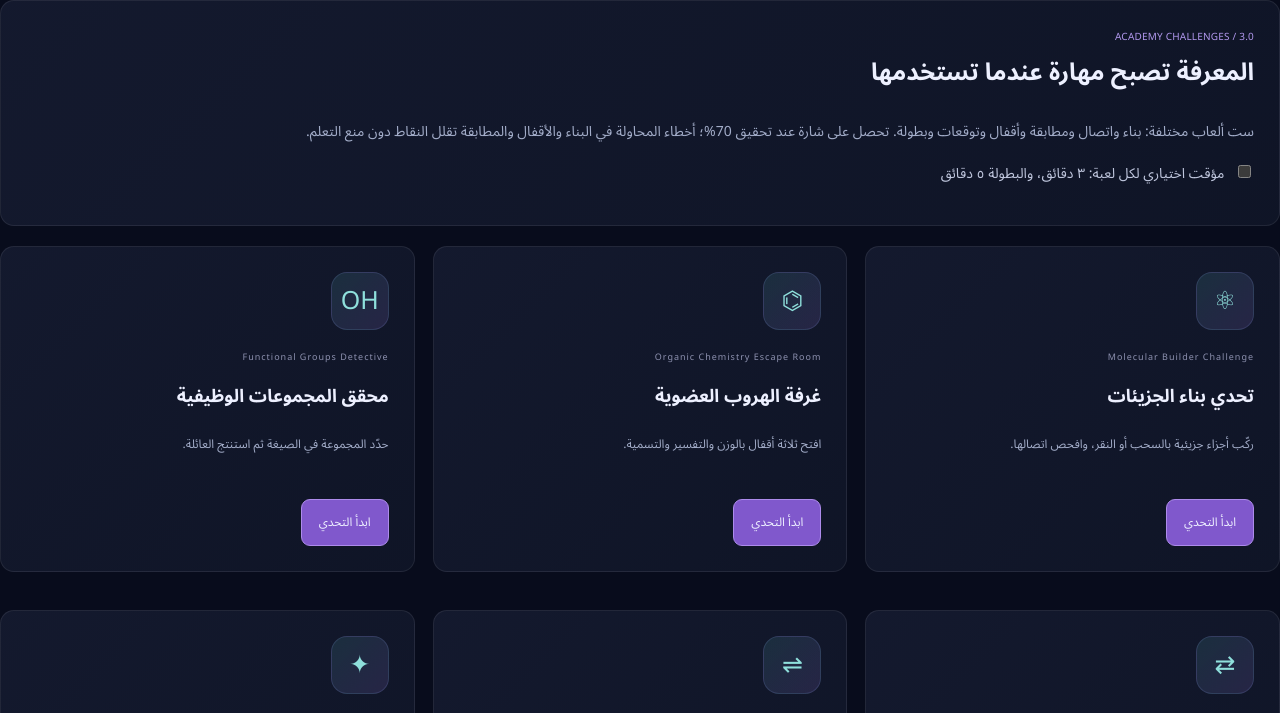
Scenario: requires identifying the actual functional region before family classification
Click the button "ابدأ التحدي" below "محقق المجموعات الوظيفية" at coordinates (345, 523), box 301,499 -> 389,546
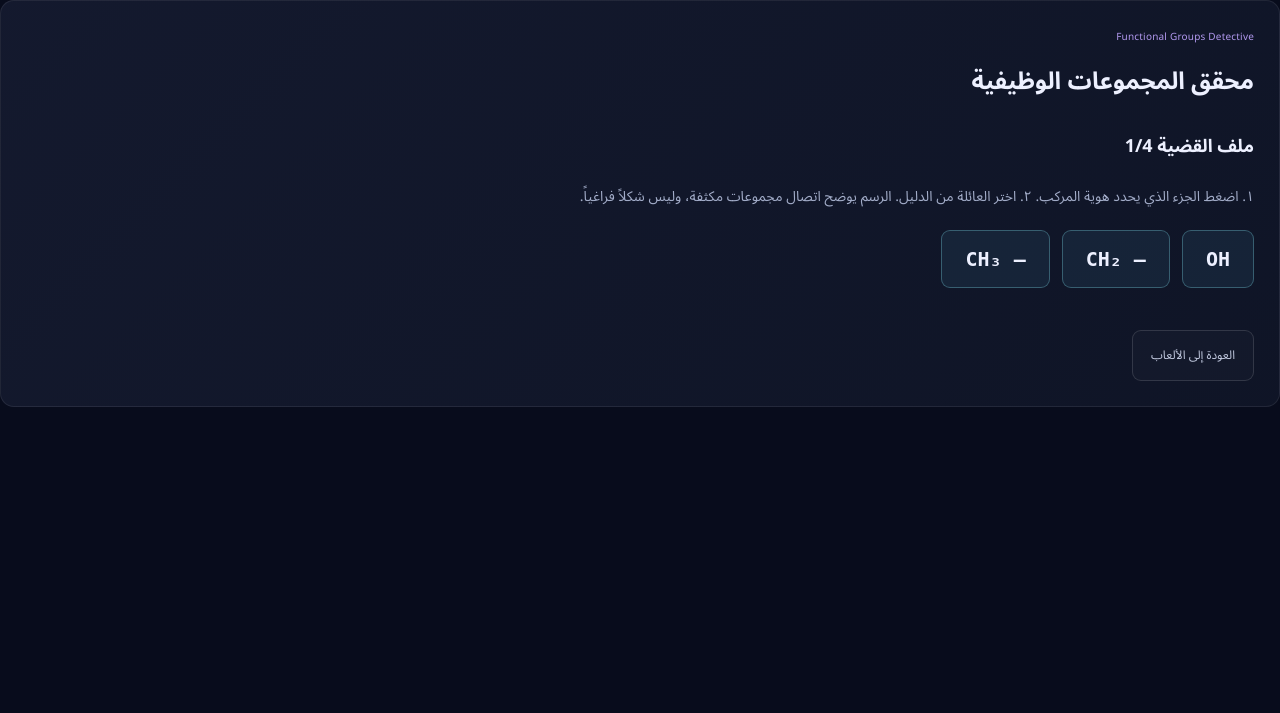
Expected: the button "كحول" is not shown
Click the button with aria-label "حدد المجموعة OH" at coordinates (1218, 259), box 1182,230 -> 1254,288
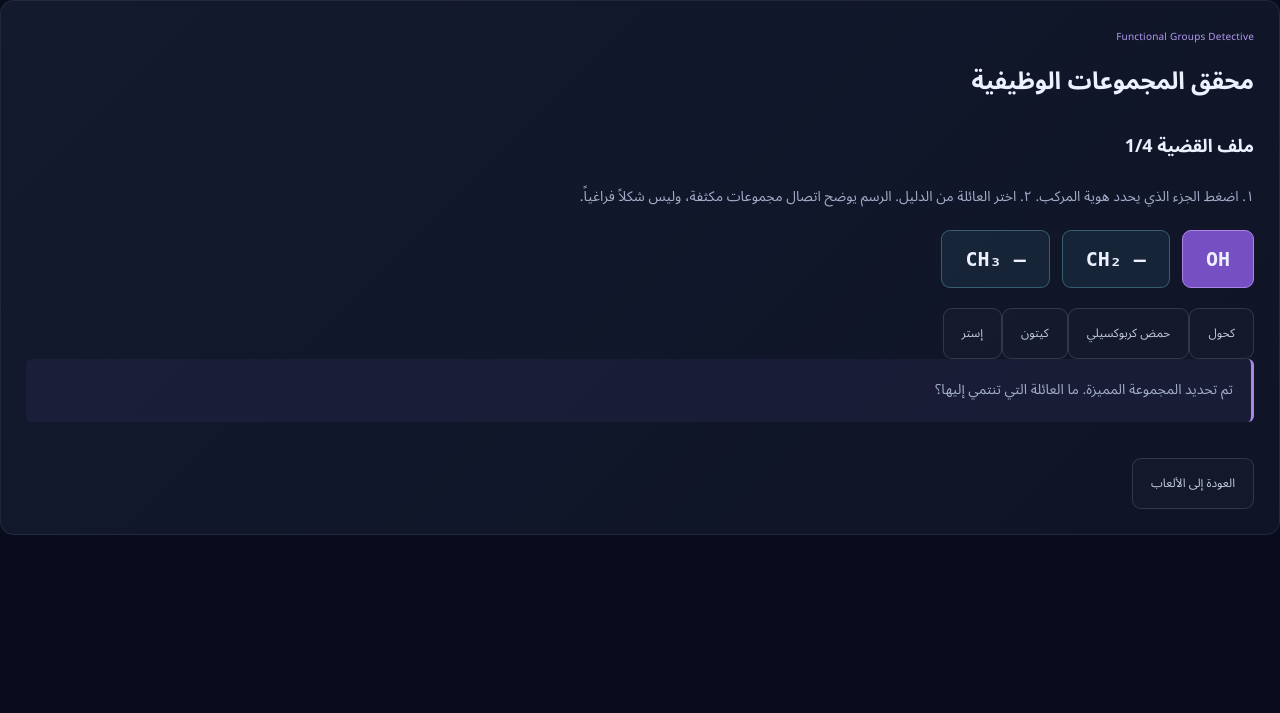
Click the button "كحول" at coordinates (1222, 334), box 1189,308 -> 1254,359
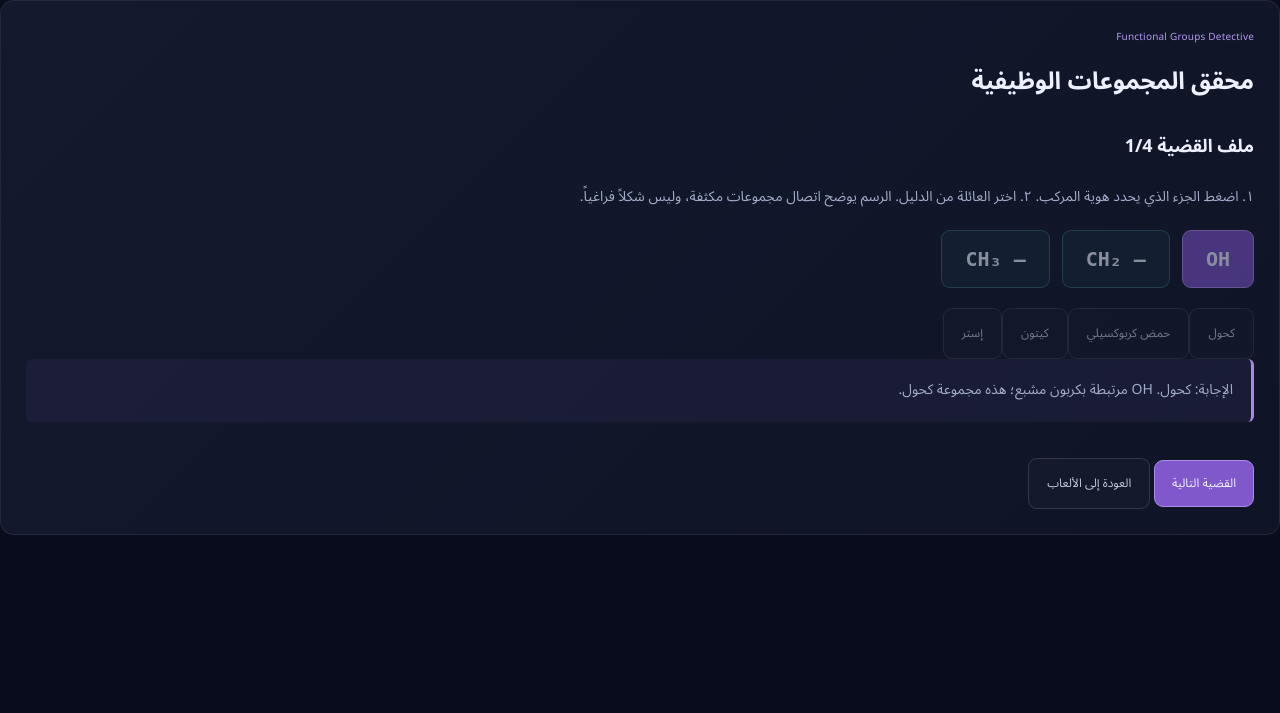
Expected: the message shows "OH مرتبطة بكربون مشبع", 898,375 -> 1233,404
